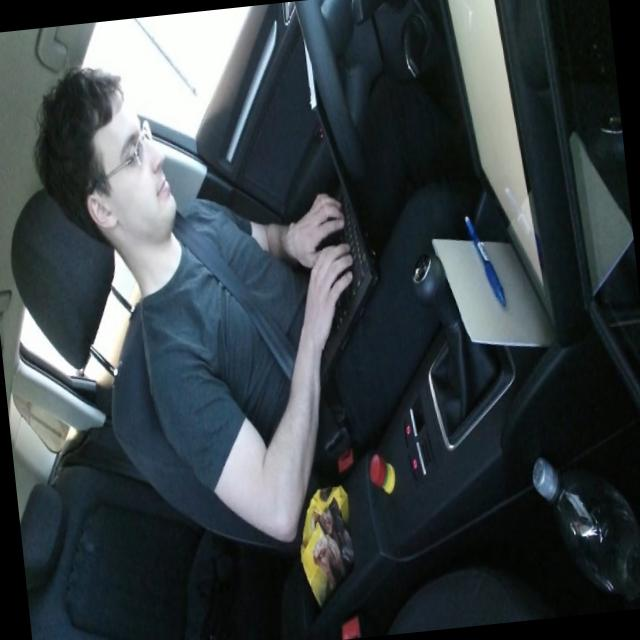pen: (462, 208, 506, 310)
